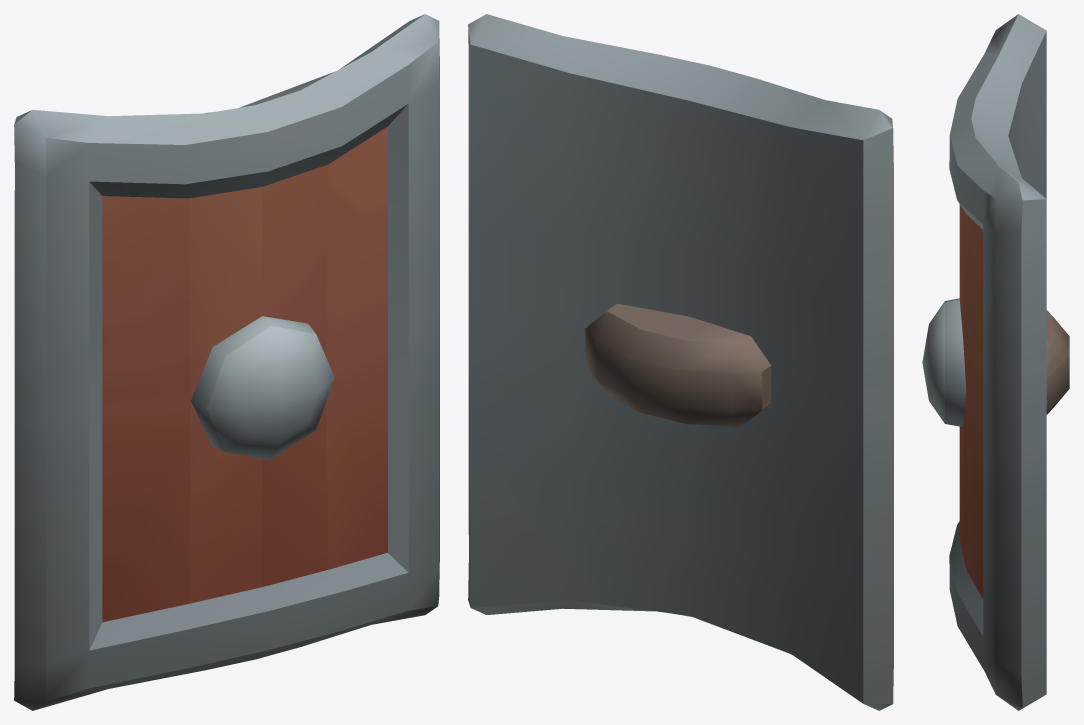
The model's file is shield_square.glb.
The picture shows the model from 3 angles, left to right: view 1: azimuth 30°, elevation 25°; view 2: azimuth 150°, elevation 25°; view 3: azimuth 270°, elevation 25°; orthographic projection. The views are drawn at different scales.
Visible parts, largest first — view 1: shield_square; view 2: shield_square; view 3: shield_square.
Boxes of the visible parts, x1,y1,x2,y2 form: shield_square: (14,14,439,710); shield_square: (468,14,893,710); shield_square: (922,14,1069,710).
Bounding box in the file's own units: 0.8826 × 1.19 × 0.3011.
1 material, 1 textured.
